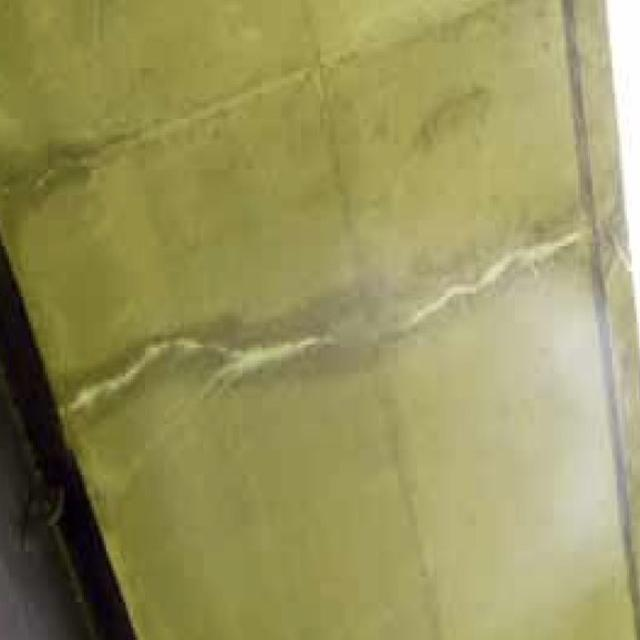freelime: (406, 167, 596, 340), (65, 323, 322, 434)
